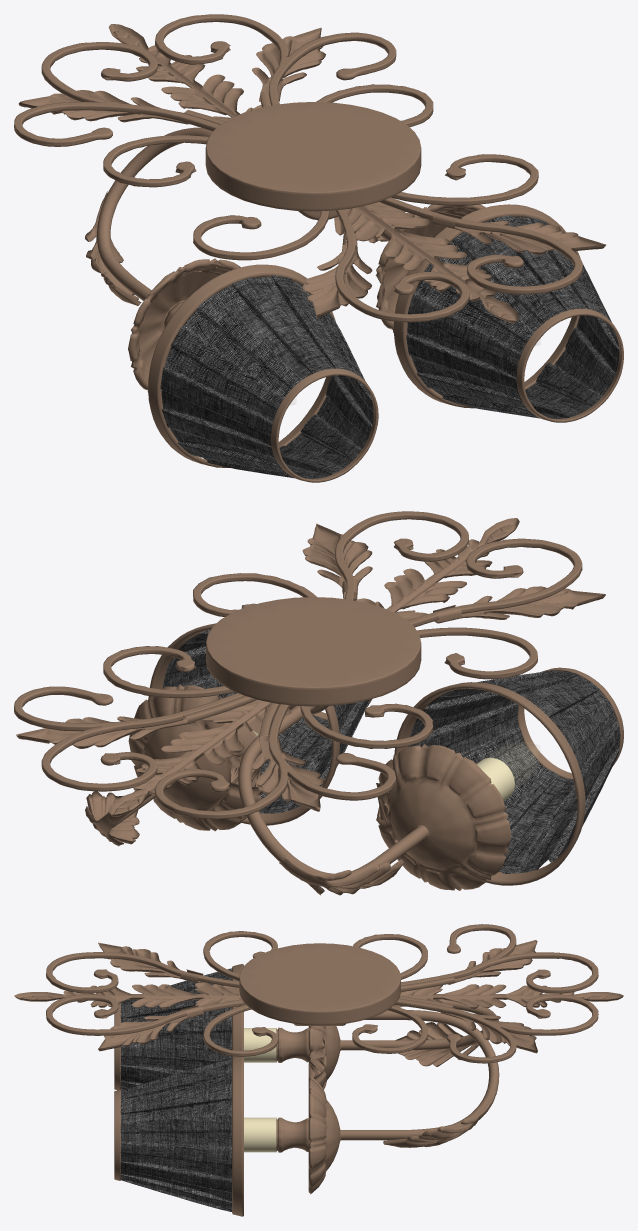
The model's file is Classic Sconce N130825.obj.
The picture shows the model from 3 angles, top to bottom: view 1: azimuth 30°, elevation 25°; view 2: azimuth 150°, elevation 25°; view 3: azimuth 270°, elevation 25°; orthographic projection. The views are drawn at different scales.
Visible parts, largest first — view 1: Plafond_002, Frame__Retopo, Plafond_001, wall_mounted_part_, Leaf_006_Retopo, Upper_leaf__Retopo, rounf_part_of_plafond_001, rounf_part_of_plafond_, Lamp_base_001_Retopo, Line_001, Lamp_base__Retopo; view 2: Frame__Retopo, Plafond_002, wall_mounted_part_, Lamp_base_001_Retopo, Leaf_006_Retopo, Upper_leaf__Retopo, Lamp_base__Retopo, rounf_part_of_plafond_001, Plafond_001, Line_001, rounf_part_of_plafond_, Line005 (+1 smaller); view 3: Frame__Retopo, Plafond_001, wall_mounted_part_, Leaf_006_Retopo, Plafond_002, Upper_leaf__Retopo, Lamp_base__Retopo, Line_, Lamp_base_001_Retopo, rounf_part_of_plafond_, Line_001, lamp (+2 smaller).
Part boxes in pixels (left/top/right/bottom): Plafond_002: left=160, top=275, right=373, bottom=478; Frame__Retopo: left=14, top=14, right=582, bottom=322; Plafond_001: left=406, top=215, right=619, bottom=418; wall_mounted_part_: left=205, top=102, right=421, bottom=211; Leaf_006_Retopo: left=18, top=27, right=606, bottom=318; Upper_leaf__Retopo: left=108, top=24, right=519, bottom=323; rounf_part_of_plafond_001: left=148, top=264, right=378, bottom=482; rounf_part_of_plafond_: left=393, top=204, right=623, bottom=422; Lamp_base_001_Retopo: left=128, top=258, right=240, bottom=392; Line_001: left=97, top=127, right=212, bottom=300; Lamp_base__Retopo: left=375, top=204, right=485, bottom=332; Frame__Retopo: left=14, top=511, right=582, bottom=819; Plafond_002: left=408, top=670, right=620, bottom=873; wall_mounted_part_: left=206, top=597, right=421, bottom=706; Lamp_base_001_Retopo: left=376, top=744, right=511, bottom=890; Leaf_006_Retopo: left=16, top=523, right=605, bottom=895; Upper_leaf__Retopo: left=109, top=518, right=519, bottom=816; Lamp_base__Retopo: left=128, top=684, right=263, bottom=831; rounf_part_of_plafond_001: left=394, top=667, right=623, bottom=885; Plafond_001: left=163, top=630, right=368, bottom=813; Line_001: left=238, top=706, right=429, bottom=887; rounf_part_of_plafond_: left=148, top=623, right=372, bottom=825; Line005: left=492, top=743, right=539, bottom=787; Frame__Retopo: left=46, top=924, right=598, bottom=1063; Plafond_001: left=120, top=1058, right=231, bottom=1211; wall_mounted_part_: left=239, top=943, right=400, bottom=1025; Leaf_006_Retopo: left=98, top=940, right=537, bottom=1147; Plafond_002: left=120, top=968, right=231, bottom=1089; Upper_leaf__Retopo: left=14, top=982, right=623, bottom=1008; Lamp_base__Retopo: left=276, top=1076, right=340, bottom=1194; Line_: left=340, top=1010, right=499, bottom=1140; Lamp_base_001_Retopo: left=276, top=1026, right=340, bottom=1089; rounf_part_of_plafond_: left=114, top=1056, right=243, bottom=1216; Line_001: left=340, top=999, right=498, bottom=1050; lamp: left=244, top=1117, right=276, bottom=1152.
Bounding box in the file's own units: 0.014 × 0.00771 × 0.0228.
4 materials, 1 textured.
